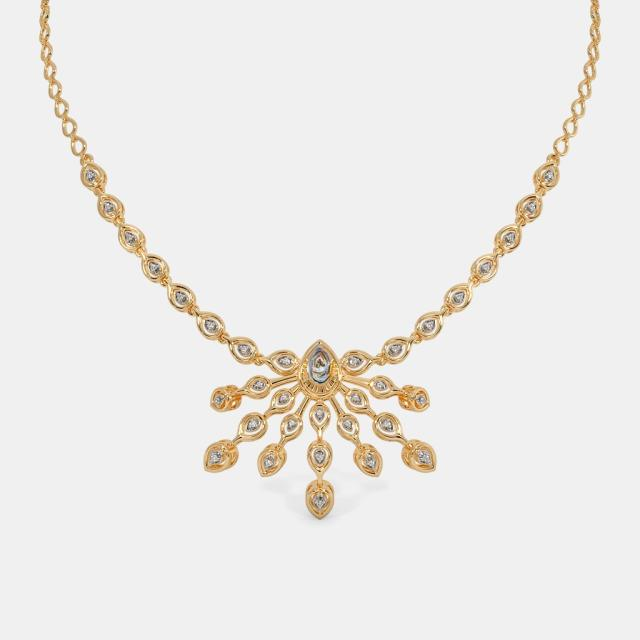missing gem: (310, 347, 331, 382), (150, 260, 161, 275)
